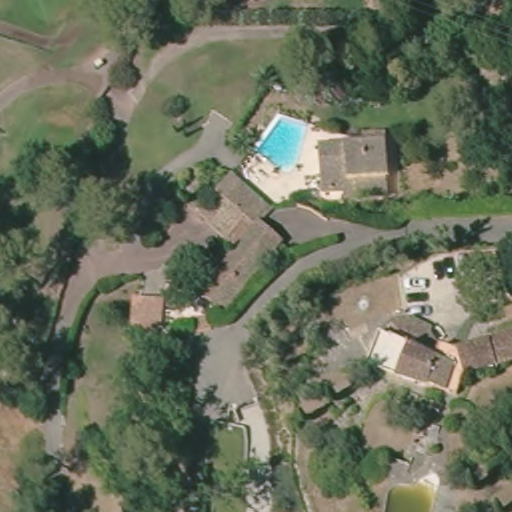pool: (252, 112, 313, 172)
